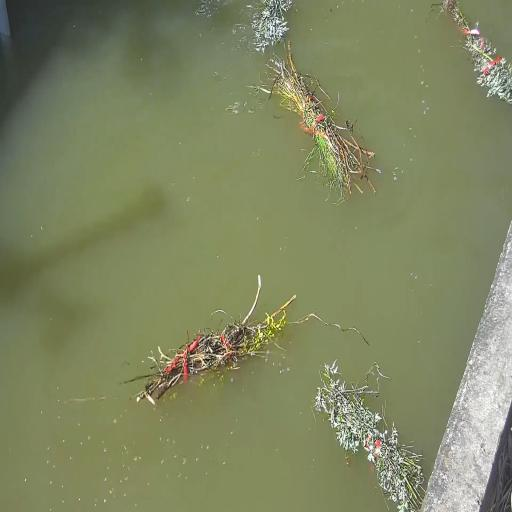twig: (126, 275, 295, 404), (265, 41, 375, 199), (315, 360, 424, 512), (431, 0, 512, 104), (252, 0, 292, 53)
